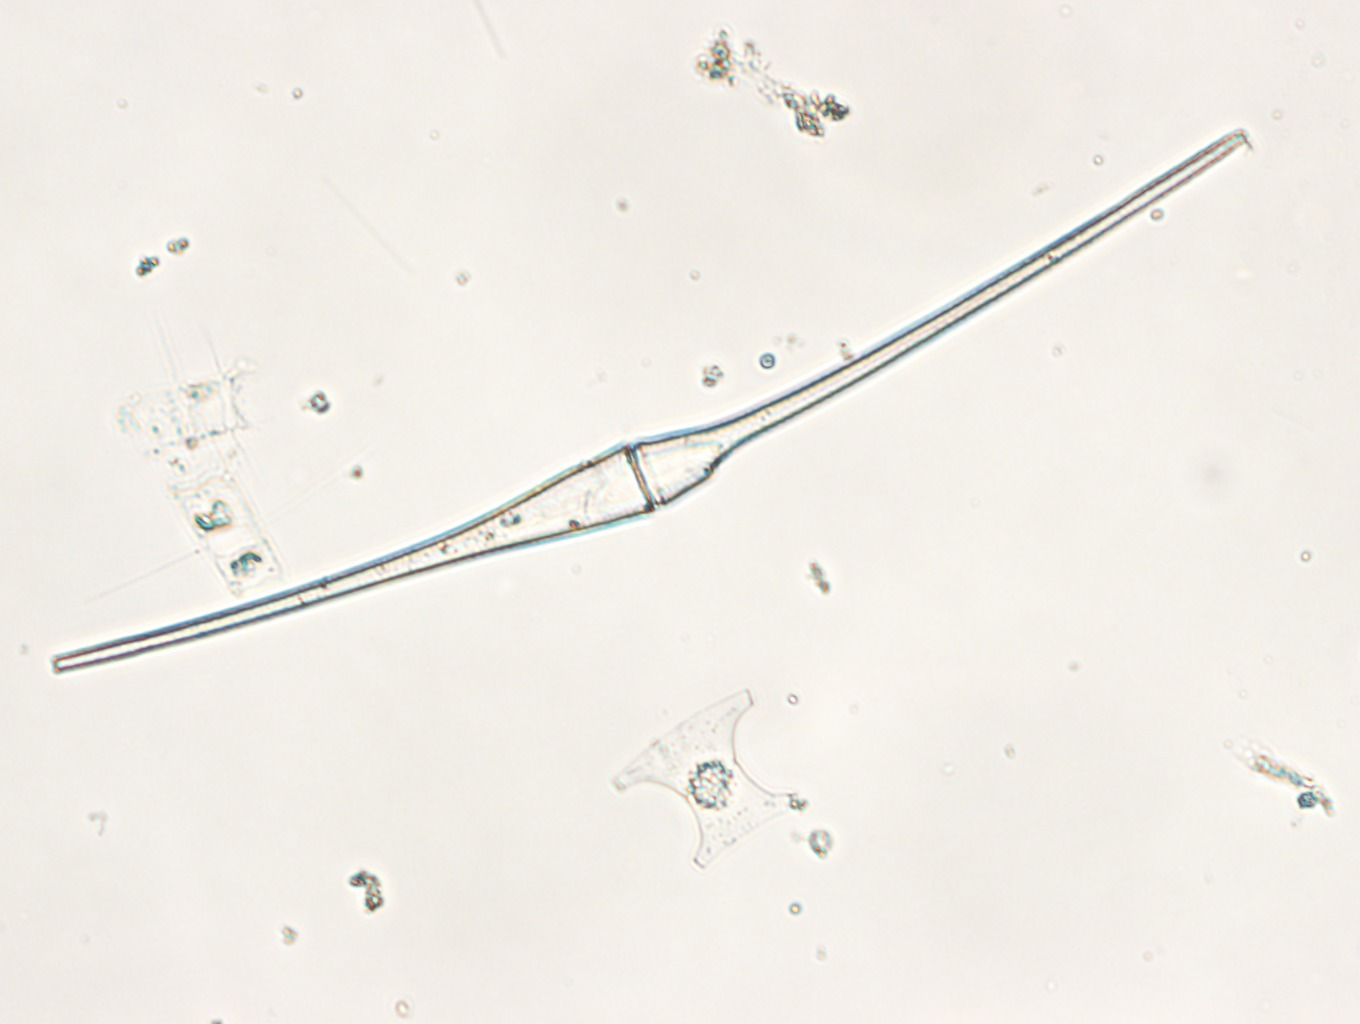ceratium fusus: (52, 136, 1247, 674)
chaetoceros: (115, 323, 292, 480), (98, 463, 286, 595)
eucampia: (613, 691, 796, 872)
